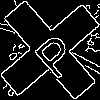P: (25, 25, 81, 81)
